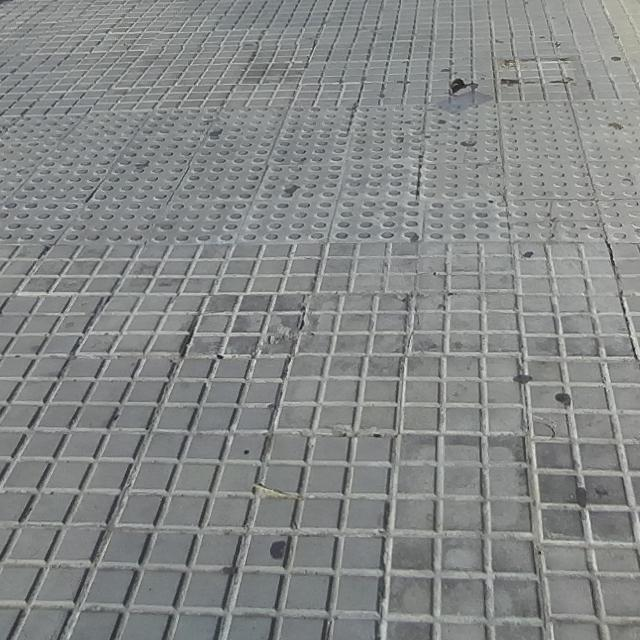calcada_quebrada: (396, 292, 426, 355), (290, 303, 313, 341)
